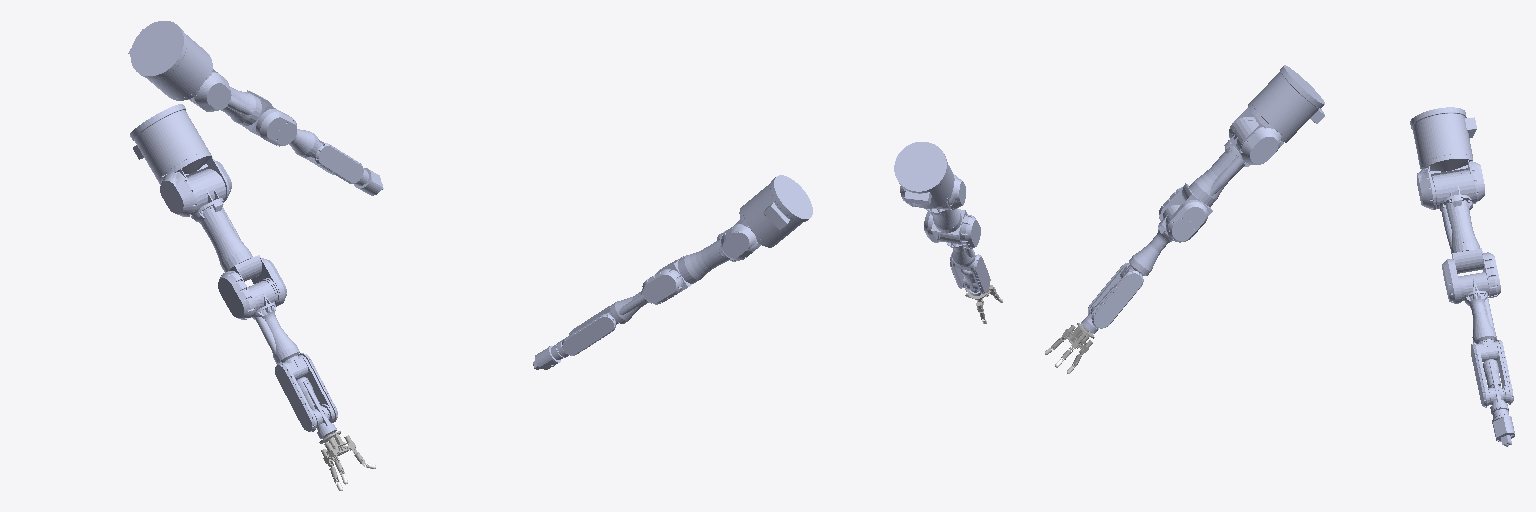
--- What the picture shows (computed from the rendered views, not written in the file) ---
3 views of the same robot in one strip: view 1: azimuth 30°, elevation 25°; view 2: azimuth 150°, elevation 25°; view 3: azimuth 270°, elevation 25° (orthographic).
Robot: dual_arm_pa10 — 32 links, 31 joints (23 revolute, 2 prismatic, 6 fixed); root link world; default pose: joints at zero except 1 at the middle of their limits (right_arm_finger3_joint1 = -1.61).
Visible links, largest first — view 1: left_arm_link1, right_arm_link1, right_arm_link3, right_arm_link6, right_arm_link4, right_arm_link2, right_arm_link5, left_arm_link4, left_arm_link6, left_arm_link2, left_arm_link3, right_arm_link7 (+1 smaller); view 2: left_arm_link1, right_arm_link1, left_arm_link6, left_arm_link3, left_arm_link4, left_arm_link2, right_arm_link4, right_arm_link6, right_arm_link3, left_arm_link5, right_arm_link5, right_arm_link2; view 3: right_arm_link1, left_arm_link1, left_arm_link3, right_arm_link3, left_arm_link2, right_arm_link6, left_arm_link4, right_arm_link4, left_arm_link5, right_arm_link2, left_arm_link6, right_arm_link5 (+2 smaller).
Boxes of the visible links, x1,y1,x2,y2 form: left_arm_link1: (128,21,209,98); right_arm_link1: (130,104,208,179); right_arm_link3: (187,169,252,271); right_arm_link6: (275,353,337,431); right_arm_link4: (218,255,286,319); right_arm_link2: (158,151,231,216); right_arm_link5: (248,278,299,363); left_arm_link4: (243,90,296,146); left_arm_link6: (305,139,363,183); left_arm_link2: (169,53,231,111); left_arm_link3: (188,87,261,125); right_arm_link7: (296,377,336,438); left_arm_link1: (743,175,812,244); right_arm_link1: (894,142,953,206); left_arm_link6: (562,306,618,355); left_arm_link3: (678,221,738,283); left_arm_link4: (642,256,691,304); left_arm_link2: (721,205,776,260); right_arm_link4: (924,209,980,248); right_arm_link6: (950,252,990,293); right_arm_link3: (915,203,961,232); left_arm_link5: (611,269,663,323); right_arm_link5: (937,232,975,266); right_arm_link2: (900,174,965,209); right_arm_link1: (1251,65,1324,138); left_arm_link1: (1410,107,1476,168); left_arm_link3: (1431,170,1479,253); right_arm_link3: (1189,117,1258,206); left_arm_link2: (1417,154,1484,209); right_arm_link6: (1088,263,1143,328); left_arm_link4: (1442,248,1500,303); right_arm_link4: (1159,183,1212,242); left_arm_link5: (1458,272,1496,343); right_arm_link2: (1229,102,1289,164); left_arm_link6: (1471,339,1513,407); right_arm_link5: (1129,205,1179,275).
Size in the robot's own frame: 1.56 by 1.92 by 1.27 metres.
Meshes: 28 distinct files referenced, 27 mesh visuals loaded (27 binary STL); not drawn: 1 (reference not matched to a file when rendering).

The robot description file, URDF, robot "dual_arm_pa10":
<robot
  name="dual_arm_pa10">
	
<!-- Base_link dual arm PA10 -->
	
  <link
    name="base_link">
    <inertial>
      <origin
        xyz="-0.00480993508794382 -1.88509420682234 0.791724905525158"
        rpy="0 0 0" />
      <mass
        value="97.6926992627204" />
      <inertia
        ixx="50.0942158701692"
        ixy="3.17724917847428"
        ixz="9.04164732112971"
        iyy="46.4664597116147"
        iyz="-5.27815108209278"
        izz="19.8026464841161" />
    </inertial>
    <visual>
      <origin
        xyz="0 0 0"
        rpy="0 0 0" />
      <geometry>
        <mesh
          filename="package://dual_arm_pa10_description/meshes/base_link.STL" />
      </geometry>
      <material
        name="">
        <color
          rgba="0.752941176470588 0.752941176470588 0.752941176470588 1" />
      </material>
    </visual>
    <collision>
      <origin
        xyz="0 0 0"
        rpy="0 0 0" />
      <geometry>
        <mesh
          filename="package://dual_arm_pa10_description/meshes/base_link_coll.STL" />
      </geometry>
    </collision>
  </link>
  
  
<!--  Link PA10 arm left  -->
  
  <link
    name="left_arm_link1">
	   
    <inertial>
      <origin
        xyz="-0.0990893449499566 -0.0028675568513179 -5.14186471178846E-11"
        rpy="0 0 0" />
      <mass
        value="7.94934697459327" />
      <inertia
        ixx="0.0504677521814026"
        ixy="-0.000891049131651244"
        ixz="1.27920043481444E-10"
        iyy="0.0510642767596363"
        iyz="4.75166069685562E-11"
        izz="0.0536200422642458" />
    </inertial>
    <visual>
      <origin
        xyz="0 0 0"
        rpy="0 0 0" />
      <geometry>
        <mesh
          filename="package://dual_arm_pa10_description/meshes/left_arm_link1.STL" />
      </geometry>
      <material
        name="">
        <color
          rgba="0.796078431372549 0.823529411764706 0.937254901960784 1" />
      </material>
    </visual>
    <collision>
      <origin
        xyz="0 0 0"
        rpy="0 0 0" />
      <geometry>
        <mesh
          filename="package://dual_arm_pa10_description/meshes/left_arm_link1.STL" />
      </geometry>
    </collision>
  </link>
  
  <link
    name="left_arm_link2">
	   
    <inertial>
      <origin
        xyz="-0.264300715549731 -7.15055906728157E-05 -7.03775243744431E-05"
        rpy="0 0 0" />
      <mass
        value="2.73095495934978" />
      <inertia
        ixx="0.0244689774772581"
        ixy="-7.42118824132229E-06"
        ixz="1.70322169879824E-06"
        iyy="0.0213953227685144"
        iyz="-0.00717334028268169"
        izz="0.0167528907534615" />
    </inertial>
    <visual>
      <origin
        xyz="0 0 0"
        rpy="0 0 0" />
      <geometry>
        <mesh
          filename="package://dual_arm_pa10_description/meshes/left_arm_link2.STL" />
      </geometry>
      <material
        name="">
        <color
          rgba="0.796078431372549 0.823529411764706 0.937254901960784 1" />
      </material>
    </visual>
    <collision>
      <origin
        xyz="0 0 0"
        rpy="0 0 0" />
      <geometry>
        <mesh
          filename="package://dual_arm_pa10_description/meshes/left_arm_link2.STL" />
      </geometry>
    </collision>
  </link>
  
  <link
    name="left_arm_link3">
	   
    <inertial>
      <origin
        xyz="-0.0437019902816687 -0.0638088021219101 0.069271467874256"
        rpy="0 0 0" />
      <mass
        value="4.68020337607247" />
      <inertia
        ixx="0.0640552347544569"
        ixy="-1.05763905615831E-06"
        ixz="1.24457536945441E-06"
        iyy="0.0411099869751615"
        iyz="-0.0273775479092558"
        izz="0.0366007171200103" />
    </inertial>
    <visual>
      <origin
        xyz="0 0 0"
        rpy="0 0 0" />
      <geometry>
        <mesh
          filename="package://dual_arm_pa10_description/meshes/left_arm_link3.STL" />
      </geometry>
      <material
        name="">
        <color
          rgba="0.796078431372549 0.823529411764706 0.937254901960784 1" />
      </material>
    </visual>
    <collision>
      <origin
        xyz="0 0 0"
        rpy="0 0 0" />
      <geometry>
        <mesh
          filename="package://dual_arm_pa10_description/meshes/left_arm_link3.STL" />
      </geometry>
    </collision>
  </link>
  
  <link
    name="left_arm_link4">
	   
    <inertial>
      <origin
        xyz="0.0770136473833799 0.000871346209396995 0.00136007925481962"
        rpy="0 0 0" />
      <mass
        value="2.3540667431701" />
      <inertia
        ixx="0.014502378632076"
        ixy="0.000159299696318827"
        ixz="0.000212338685622314"
        iyy="0.0149084398366611"
        iyz="0.00496672671864164"
        izz="0.0127528937115759" />
    </inertial>
    <visual>
      <origin
        xyz="0 0 0"
        rpy="0 0 0" />
      <geometry>
        <mesh
          filename="package://dual_arm_pa10_description/meshes/left_arm_link4.STL" />
      </geometry>
      <material
        name="">
        <color
          rgba="0.796078431372549 0.823529411764706 0.937254901960784 1" />
      </material>
    </visual>
    <collision>
      <origin
        xyz="0 0 0"
        rpy="0 0 0" />
      <geometry>
        <mesh
          filename="package://dual_arm_pa10_description/meshes/left_arm_link4.STL" />
      </geometry>
    </collision>
  </link>
  
  <link
    name="left_arm_link5">
	   
    <inertial>
      <origin
        xyz="0.0557957834519112 -0.0379144188373129 -0.0758364174887833"
        rpy="0 0 0" />
      <mass
        value="2.05851456703555" />
      <inertia
        ixx="0.0201272248938986"
        ixy="0.000271269049442124"
        ixz="0.000544889679894761"
        iyy="0.0173122643398697"
        iyz="0.00719444295915488"
        izz="0.00652277468352631" />
    </inertial>
    <visual>
      <origin
        xyz="0 0 0"
        rpy="0 0 0" />
      <geometry>
        <mesh
          filename="package://dual_arm_pa10_description/meshes/left_arm_link5.STL" />
      </geometry>
      <material
        name="">
        <color
          rgba="0.796078431372549 0.823529411764706 0.937254901960784 1" />
      </material>
    </visual>
    <collision>
      <origin
        xyz="0 0 0"
        rpy="0 0 0" />
      <geometry>
        <mesh
          filename="package://dual_arm_pa10_description/meshes/left_arm_link5.STL" />
      </geometry>
    </collision>
  </link>
  
  <link
    name="left_arm_link6">
    <inertial>
      <origin
        xyz="-0.11479546488584 0.000402885351959092 0.000572717350250995"
        rpy="0 0 0" />
      <mass
        value="1.37119768187811" />
      <inertia
        ixx="0.00333020305933528"
        ixy="-5.22488915099865E-05"
        ixz="-0.000105018147331423"
        iyy="0.01134044265071"
        iyz="0.000843030204793276"
        izz="0.0100295283885227" />
    </inertial>
    <visual>
      <origin
        xyz="0 0 0"
        rpy="0 0 0" />
      <geometry>
        <mesh
          filename="package://dual_arm_pa10_description/meshes/left_arm_link6.STL" />
      </geometry>
      <material
        name="">
        <color
          rgba="0.796078431372549 0.823529411764706 0.937254901960784 1" />
      </material>
    </visual>
    <collision>
      <origin
        xyz="0 0 0"
        rpy="0 0 0" />
      <geometry>
        <mesh
          filename="package://dual_arm_pa10_description/meshes/left_arm_link6.STL" />
      </geometry>
    </collision>
  </link>
  
   <link
    name="left_arm_link7">
    <inertial>
      <origin
        xyz="-0.00535247874737266 -0.00359545980310949 -0.0310805568908772"
        rpy="0 0 0" />
      <mass
        value="0.749476039952976" />
      <inertia
        ixx="0.00379347793099343"
        ixy="-3.60666870763432E-06"
        ixz="-2.87731741528884E-05"
        iyy="0.00372105352394753"
        iyz="0.000471316831514314"
        izz="0.000480390337421146" />
    </inertial>
    <visual>
      <origin
        xyz="0 0 0"
        rpy="0 0 0" />
      <geometry>
        <mesh
          filename="package://dual_arm_pa10_description/meshes/left_arm_link7.STL" />
      </geometry>
      <material
        name="">
        <color
          rgba="0.796078431372549 0.823529411764706 0.937254901960784 1" />
      </material>
    </visual>
    <collision>
      <origin
        xyz="0 0 0"
        rpy="0 0 0" />
      <geometry>
        <mesh
          filename="package://dual_arm_pa10_description/meshes/left_arm_link7.STL" />
      </geometry>
    </collision>
  </link>
  
  
  <link name ="left_arm_link8"/>
  
  <link name = "gripper"/>
  
  <link 
    name="gripper2"> 
    <inertial> 
      <origin 
        xyz="0 7.27408835842214E-05 -2.77311286391718E-05" 
        rpy="0 0 0" /> 
      <mass 
        value="0.318111544829444" /> 
      <inertia 
        ixx="0.000238894475405689" 
        ixy="-9.95010231447356E-08" 
        ixz="3.79329413750036E-08" 
        iyy="0.000276504500502102" 
        iyz="-3.00174602631607E-07" 
        izz="0.000227584548635218" /> 
    </inertial> 
    <visual> 
      <origin 
        xyz="0 0 0" 
        rpy="0 0 0" /> 
      <geometry> 
        <mesh 
          filename="package://dual_arm_pa10_description/meshes/gripper_f.STL" /> 
      </geometry> 
      <material 
        name=""> 
        <color 
          rgba="0.796078431372549 0.823529411764706 0.937254901960784 1" /> 
      </material> 
    </visual> 
    <collision> 
      <origin 
        xyz="0 0 0" 
        rpy="0 0 0" /> 
      <geometry> 
        <mesh 
          filename="package://dual_arm_pa10_description/meshes/gripper_f.STL" /> 
      </geometry> 
    </collision> 
  </link>
  
  
<link
    name="gripper_left_finger_left">
	
   
    <inertial>
      <origin
        xyz="-0.00749999999999984 0.0191263593375395 -0.000239195420437932"
        rpy="0 0 0" />
      <mass
        value="0.0168898172009748" />
      <inertia
        ixx="3.30140945222578E-06"
        ixy="-1.45583787809333E-21"
        ixz="6.08804930839028E-22"
        iyy="1.52846665341063E-06"
        iyz="9.47618109740749E-21"
        izz="2.38014886911172E-06" />
    </inertial>
    <visual>
      <origin
        xyz="0 0 0"
        rpy="0 0 0" />
      <geometry>
        <mesh
          filename="package://dual_arm_pa10_description/meshes/gripper_left_finger_left.STL" />
      </geometry>
      <material
        name="">
        <color
          rgba="0.792156862745098 0.819607843137255 0.933333333333333 1" />
      </material>
    </visual>
    <collision>
      <origin
        xyz="0 0 0"
        rpy="0 0 0" />
      <geometry>
        <mesh
          filename="package://dual_arm_pa10_description/meshes/gripper_left_finger_left.STL" />
      </geometry>
    </collision>
  </link>
  
  
  
  <link
    name="gripper_left_finger_right">
	  
   
    <inertial>
      <origin
        xyz="0.00750000000000006 0.0191263593375388 -0.000239195420437488"
        rpy="0 0 0" />
      <mass
        value="0.0168898172009748" />
      <inertia
        ixx="3.30140945222578E-06"
        ixy="-1.70730078430945E-21"
        ixz="1.21760986167806E-21"
        iyy="1.52846665341063E-06"
        iyz="9.68793933422106E-21"
        izz="2.38014886911172E-06" />
    </inertial>
    <visual>
      <origin
        xyz="0 0 0"
        rpy="0 0 0" />
      <geometry>
        <mesh
          filename="package://dual_arm_pa10_description/meshes/gripper_left_finger_right.STL" />
      </geometry>
      <material
        name="">
        <color
          rgba="0.792156862745098 0.819607843137255 0.933333333333333 1" />
      </material>
    </visual>
    <collision>
      <origin
        xyz="0 0 0"
        rpy="0 0 0" />
      <geometry>
        <mesh
          filename="package://dual_arm_pa10_description/meshes/gripper_left_finger_right.STL" />
      </geometry>
    </collision>
  </link>
  
<!--  joint left arm pa10  -->
  
  <joint
    name="left_arm_joint1"
    type="fixed">
    <origin
      xyz="0.507621418725904 -1.82100573563922 1.62389631575534"
      rpy="0 -0.785398163397443 -2.88335101905768" />
    <parent
      link="base_link" />
    <child
      link="left_arm_link1" />
    <axis
      xyz="0 0 0" />
  </joint>
  
  <joint
    name="left_arm_joint2"
    type="revolute">
    <origin
      xyz="0 0 0"
      rpy="0.81 -2.77555756156289E-17 -6.93889390390723E-17" />
    <parent
      link="left_arm_link1" />
    <child
      link="left_arm_link2" />
    <axis
      xyz="1 0 0" />
            <limit
      upper="3.08823"
      lower="-3.08823" 
      effort="10000"
      velocity="10" />
  </joint>
   
  <joint
    name="left_arm_joint3"
    type="revolute">
    <origin
      xyz="-0.315500000000002 -0.0265228088786378 0.0363530000028649"
      rpy="0.679504721422882 -0.940482442690304 -1.5707963267949" />
    <parent
      link="left_arm_link2" />
    <child
      link="left_arm_link3" />
    <axis
      xyz="-1 0 0" />
            <limit
      upper="1.58725" 
      lower="-1.58725" 
      effort="10000"
      velocity="10" />
  </joint>
  
  <joint
    name="left_arm_joint4"
    type="revolute">
    <origin
      xyz="-0.0420000000000007 -0.213066339698667 0.231329852873212"
      rpy="-0.86 -0.826472415536946 -1.5707963267949" />
    <parent
      link="left_arm_link3" />
    <child
      link="left_arm_link4" />
    <axis
      xyz="-1 0 0" />
            <limit
      upper="3.03587" 
      lower="-3.03587"
      effort="10000"
      velocity="10" />
  </joint>
  
  <joint
    name="left_arm_joint5"
    type="revolute">
    <origin
      xyz="0.136002290415427 0.035150512356696 0.0435940570071716"
      rpy="1.99 0.89253909633178 -1.57079632679489" />
    <parent
      link="left_arm_link4" />
    <child
      link="left_arm_link5" />
    <axis
      xyz="-1 0 0" />
        <limit
      upper="2.3901" 
     lower="-2.3901" 
      effort="10000"
      velocity="10" />
  </joint>
  
  <joint
    name="left_arm_joint6"
    type="revolute">
    <origin
      xyz="0.0539997253029849 -0.11697622382484 -0.233877997382656"
      rpy="-1.00442971146016 -1.10702148743825 1.5707963267949" />
    <parent
      link="left_arm_link5" />
    <child
      link="left_arm_link6" />
    <axis
      xyz="-1 0 0" />
            <limit
      upper="4.44059"
      lower="-4.44059" 
      effort="10000"
      velocity="10" />
  </joint>
  
  <joint
    name="left_arm_joint7"
    type="revolute">
    <origin
      xyz="-0.238499999999999 0.00191374141050482 0.00364846570489141"
      rpy="-1.45 -1.11583611356585 1.57079632679488" />
    <parent
      link="left_arm_link6" />
    <child
      link="left_arm_link7" />
    <axis
      xyz="-1 0 0" />
            <limit
      upper="2.5979"
      lower="-2.5979" 
      effort="10000"
      velocity="10" />
  </joint>

  <joint
    name="left_arm_joint8"
    type="revolute">
    <origin
      xyz="-0.00411828717799878 0.0267506844360853 0.186087179790034"
      rpy="1.46105289658605 0.0915142366651312 0.692402659639599" />
    <parent
      link="left_arm_link7" />
    <child
      link="left_arm_link8" />
    <axis
      xyz="0 1 0" />
    <limit
      upper="3.14"
      lower="-3.14" 
      effort="10000"
      velocity="10" />
  </joint>
  
    <joint
    name="left_arm_joint9"
    type="fixed">
    <origin
      xyz="0 0 0"
      rpy="0 0 0" />
    <parent
      link="left_arm_link8" />
    <child
      link="gripper2" />
  </joint>

  <joint
    name="gripper_left_joint_left"
    type="prismatic">
    <origin
      xyz="0 0 0"
      rpy="1.11022302462516E-16 2.77555756156289E-17 0" />
    <parent
      link="gripper2" />
    <child
      link="gripper_left_finger_left" />
    <axis
      xyz="-1 0 0" />
     <limit
      effort="100"
      velocity="0"
      upper="0.015"
      lower="-0.015" />
  </joint>
  
  <joint
    name="gripper_left_joint_right"
    type="prismatic">
    <origin
      xyz="0 0 0"
      rpy="1.11022302462516E-16 2.77555756156289E-17 0" />
    <parent
      link="gripper2" />
    <child
      link="gripper_left_finger_right" />
    <axis
      xyz="-1 0 0" />
     <limit
      effort="100"
      velocity="0"
      upper="0.015"
      lower="-0.015" />
  </joint>
  
  <joint name = "fixed_gripper" type = "fixed">
	<origin 
		xyz ="0 0 0"
		rpy="0 0 1.56"/>
	  <parent 
		  link = "gripper2"/>
	  <child 
		  link = "gripper"/>
  </joint>
  
  
  
<!--  Right arm links PA10  -->
  
  
  <link
    name="right_arm_link1">
	  
   
    <inertial>
      <origin
        xyz="-0.0990893449499568 -0.00286755685131812 -5.14186471178846E-11"
        rpy="0 0 0" />
      <mass
        value="7.94934697459327" />
      <inertia
        ixx="0.0504677521814026"
        ixy="-0.000891049131651264"
        ixz="1.27920058226594E-10"
        iyy="0.0510642767596364"
        iyz="4.75166867658361E-11"
        izz="0.0536200422642459" />
    </inertial>
    <visual>
      <origin
        xyz="0 0 0"
        rpy="0 0 0" />
      <geometry>
        <mesh
          filename="package://dual_arm_pa10_description/meshes/right_arm_link1.STL" />
      </geometry>
      <material
        name="">
        <color
          rgba="0.796078431372549 0.823529411764706 0.937254901960784 1" />
      </material>
    </visual>
    <collision>
      <origin
        xyz="0 0 0"
        rpy="0 0 0" />
      <geometry>
        <mesh
          filename="package://dual_arm_pa10_description/meshes/right_arm_link1.STL" />
      </geometry>
    </collision>
  </link>
  
  
  <link
    name="right_arm_link2">
	  
   
    <inertial>
      <origin
        xyz="-0.26430078576359 5.5395456808327E-06 -0.000100120550968308"
        rpy="0 0 0" />
      <mass
        value="2.73096064577531" />
      <inertia
        ixx="0.0244690084324752"
        ixy="-6.16591837397824E-06"
        ixz="-4.45204426263203E-06"
        iyy="0.0116656890506434"
        iyz="-0.00139997461375321"
        izz="0.0264825978692218" />
    </inertial>
    <visual>
      <origin
        xyz="0 0 0"
        rpy="0 0 0" />
      <geometry>
        <mesh
          filename="package://dual_arm_pa10_description/meshes/right_arm_link2.STL" />
      </geometry>
      <material
        name="">
        <color
          rgba="0.796078431372549 0.823529411764706 0.937254901960784 1" />
      </material>
    </visual>
    <collision>
      <origin
        xyz="0 0 0"
        rpy="0 0 0" />
      <geometry>
        <mesh
          filename="package://dual_arm_pa10_description/meshes/right_arm_link2.STL" />
      </geometry>
    </collision>
  </link>
  

  
  <link
    name="right_arm_link3">
	  
   
    <inertial>
      <origin
        xyz="-0.043702005578881 -0.090401693031238 0.0264126444841203"
        rpy="0 0 0" />
      <mass
        value="4.68020240384894" />
      <inertia
        ixx="0.0640552172482369"
        ixy="-1.53619565706423E-06"
        ixz="5.24694524367715E-07"
        iyy="0.0157079072556859"
        iyz="-0.0147922025516611"
        izz="0.0620027657982079" />
    </inertial>
    <visual>
      <origin
        xyz="0 0 0"
        rpy="0 0 0" />
      <geometry>
        <mesh
          filename="package://dual_arm_pa10_description/meshes/right_arm_link3.STL" />
      </geometry>
      <material
        name="">
        <color
          rgba="0.796078431372549 0.823529411764706 0.937254901960784 1" />
      </material>
    </visual>
    <collision>
      <origin
        xyz="0 0 0"
        rpy="0 0 0" />
      <geometry>
        <mesh
          filename="package://dual_arm_pa10_description/meshes/right_arm_link3.STL" />
      </geometry>
    </collision>
  </link>
  

  
  <link
    name="right_arm_link4">
	  
   
    <inertial>
      <origin
        xyz="-0.0770138451003759 -0.00161193273810367 -0.000125751938630847"
        rpy="0 0 0" />
      <mass
        value="2.35401507523885" />
      <inertia
        ixx="0.0145020232118894"
        ixy="0.000262355464902327"
        ixz="4.01548601820139E-05"
        iyy="0.00909875065584951"
        iyz="0.00185468162491554"
        izz="0.0185621935328941" />

    </inertial>
    <visual>
      <origin
        xyz="0 0 0"
        rpy="0 0 0" />
      <geometry>
        <mesh
          filename="package://dual_arm_pa10_description/meshes/right_arm_link4.STL" />
      </geometry>
      <material
        name="">
        <color
          rgba="0.796078431372549 0.823529411764706 0.937254901960784 1" />
      </material>
    </visual>
    <collision>
      <origin
        xyz="0 0 0"
        rpy="0 0 0" />
      <geometry>
        <mesh
          filename="package://dual_arm_pa10_description/meshes/right_arm_link4.STL" />
      </geometry>
    </collision>
  </link>
  
      
  <link
    name="right_arm_link5">
	  
   
    <inertial>
      <origin
        xyz="-0.0487042069737162 -0.0766373323514082 0.0362682906169793"
        rpy="0 0 0" />
      <mass
        value="2.05851465800913" />
      <inertia
        ixx="0.0201272258099083"
        ixy="0.000550620033272202"
        ixz="-0.000259442925847235"
        iyy="0.00621722042355472"
        iyz="-0.00695484682515333"
        izz="0.0176178173930546" />
    </inertial>
    <visual>
      <origin
        xyz="0 0 0"
        rpy="0 0 0" />
      <geometry>
        <mesh
          filename="package://dual_arm_pa10_description/meshes/right_arm_link5.STL" />
      </geometry>
      <material
        name="">
        <color
          rgba="0.796078431372549 0.823529411764706 0.937254901960784 1" />
      </material>
    </visual>
    <collision>
      <origin
        xyz="0 0 0"
        rpy="0 0 0" />
      <geometry>
        <mesh
          filename="package://dual_arm_pa10_description/meshes/right_arm_link5.STL" />
      </geometry>
    </collision>
  </link>
  <link
    name="right_arm_link6">
	  
   
    <inertial>
      <origin
        xyz="-0.123795466877962 -0.000332575422462789 0.000616238682792758"
        rpy="0 0 0" />
      <mass
        value="1.37119764560828" />
      <inertia
        ixx="0.00333020297641547"
        ixy="7.06016508965639E-05"
        ixz="-9.36703489410525E-05"
        iyy="0.0109653192543875"
        iyz="-0.00103040611090879"
        izz="0.0104046512455929" />
    </inertial>
    <visual>
      <origin
        xyz="0 0 0"
        rpy="0 0 0" />
      <geometry>
        <mesh
          filename="package://dual_arm_pa10_description/meshes/right_arm_link6.STL" />
      </geometry>
      <material
        name="">
        <color
          rgba="0.796078431372549 0.823529411764706 0.937254901960784 1" />
      </material>
    </visual>
    <collision>
      <origin
        xyz="0 0 0"
        rpy="0 0 0" />
      <geometry>
        <mesh
          filename="package://dual_arm_pa10_description/meshes/right_arm_link6.STL" />
      </geometry>
    </collision>
  </link>
  
   <link
    name="right_arm_link7">
	  
   
    <inertial>
      <origin
        xyz="-0.014234191618073 0.0146115535383847 -0.027666424709035"
        rpy="0 0 0" />
      <mass
        value="0.749476071274831" />
      <inertia
        ixx="0.00379347796542419"
        ixy="1.32974134677653E-05"
        ixz="-2.57698088367669E-05"
        iyy="0.00312427872471845"
        iyz="-0.0013416204873178"
        izz="0.00107716514804889" />     
      
    </inertial>
    <visual>
      <origin
        xyz="0 0 0"
        rpy="0 0 0" />
      <geometry>
        <mesh
          filename="package://dual_arm_pa10_description/meshes/right_arm_link7.STL" />
      </geometry>
      <material
        name="">
        <color
          rgba="0.796078431372549 0.823529411764706 0.937254901960784 1" />
      </material>
    </visual>
    <collision>
      <origin
        xyz="0 0 0"
        rpy="0 0 0" />
      <geometry>
        <mesh
          filename="package://dual_arm_pa10_description/meshes/right_arm_link7.STL" />
      </geometry>
    </collision>
  </link>
  
   <link name="right_arm_link8"/>
  
  <link
    name="right_arm_base_hand">
	  
   
    <inertial>
      <origin
        xyz="0.0418091045929514 0.00191798166981871 0.00433739198776051"
        rpy="0 0 0" />
      <mass
        value="0.430073369142988" />
      <inertia
        ixx="0.000343341303406941"
        ixy="2.53348472786522E-05"
        ixz="5.81308793866753E-05"
        iyy="0.0006027164783059"
        iyz="1.96121238200981E-05"
        izz="0.000569612147015965" />
    </inertial>
    <visual>
      <origin
        xyz="0 0 0"
        rpy="0 0 0" />
      <geometry>
        <mesh
          filename="package://dual_arm_pa10_description/meshes/right_arm_base_hand.STL" />
      </geometry>
      <material
        name="">
        <color
          rgba="0.752941176470588 0.752941176470588 0.752941176470588 1" />
      </material>
    </visual>
    <collision>
      <origin
        xyz="0 0 0"
        rpy="0 0 0" />
      <geometry>
        <mesh
          filename="package://dual_arm_pa10_description/meshes/right_arm_base_hand.STL" />
      </geometry>
    </collision>
  </link>
  
<!--  Right arm joint PA10  -->
  
  
  <joint
    name="right_arm_joint1"
    type="fixed">
    <origin
      xyz="0.191984660943271 -2.36324029739934 1.62389631575577"
      rpy="1.5707963267949 -0.785398163397444 1.82903796132701" />
    <parent
      link="base_link" />
    <child
      link="right_arm_link1" />
    <axis
      xyz="0 0 0" />
  </joint>
  
  <joint
    name="right_arm_joint2"
    type="revolute">
    <origin
      xyz="0 0 0"
      rpy="1.70 0 -5.55111512312578E-17" />
    <parent
      link="right_arm_link1" />
    <child
      link="right_arm_link2" />
    <axis
      xyz="-1 0 0" />
            <limit
      upper="3.08823"
      lower="-3.08823" 
      effort="10000"
      velocity="10" />
  </joint>
  
  <joint
    name="right_arm_joint3"
    type="revolute">
    <origin
      xyz="-0.315500000000001 -0.0448097183696872 0.00413390126275653"
      rpy="0.260 -0.0919909520685004 -1.5707963267949" />
    <parent
      link="right_arm_link2" />
    <child
      link="right_arm_link3" />
    <axis
      xyz="-1 0 0" />
            <limit
      upper="1.58725" 
      lower="-1.58725" 
      effort="10000"
      velocity="10" />
  </joint>
  <joint
    name="right_arm_joint4"
    type="revolute">
    <origin
      xyz="-0.0419999999999989 -0.301875598140907 0.0882150168055255"
      rpy="-0.3 0.284306822214236 1.5707963267949" />
    <parent
      link="right_arm_link3" />
    <child
      link="right_arm_link4" />
    <axis
      xyz="-1 0 0" />
            <limit
      upper="3.03587" 
      lower="-3.03587"
      effort="10000"
      velocity="10" />
  </joint>
  <joint
    name="right_arm_joint5"
    type="revolute">
    <origin
      xyz="-0.136002290415432 0.0476625282866143 0.00897405831329179"
      rpy="-2.64511707232048 -0.186476411880821 1.5707963267949" />
    <parent
      link="right_arm_link4" />
    <child
      link="right_arm_link5" />
    <axis
      xyz="-1 0 0" />
        <limit
      upper="2.3901" 
     lower="-2.3901" 
      effort="10000"
      velocity="10" />
  </joint>
  
  <joint
    name="right_arm_joint6"
    type="revolute">
    <origin
      xyz="-0.0505 -0.228214601249627 0.108048353881556"
      rpy="0.85944656681236 0.442183377058992 1.5707963267949" />
    <parent
      link="right_arm_link5" />
    <child
      link="right_arm_link6" />
    <axis
      xyz="-1 0 0" />
            <limit
      upper="4.44059"
      lower="-4.44059" 
      effort="10000"
      velocity="10" />
  </joint>
 
  <joint
    name="right_arm_joint7"
    type="revolute">
    <origin
      xyz="-0.247500000000001 -0.0078023590589269 0.0103989556550788"
      rpy="1.077475833995264 -0.918211868949171 -1.57079632679489" />
    <parent
      link="right_arm_link6" />
    <child
      link="right_arm_link7" />
    <axis
      xyz="-1 0 0" />
            <limit
      upper="2.87979"
      lower="-2.87979" 
      effort="10000"
      velocity="10" />
  </joint>
  
  
  
 
  <joint
    name="right_arm_joint8"
    type="revolute">
    <origin
      xyz="-0.0130000046830103 -0.0349511567610573 0.0708479408778211"
      rpy="0 -1.11250174568969 -1.5707963267949" />
    <parent
      link="right_arm_link7" />
    <child
      link="right_arm_link8" />
    <axis
      xyz="-1 0 0" />
        <limit
      upper="3.14"
      lower="-3.14" 
      effort="10000"
      velocity="10" />
    </joint>
  
  
  <joint
    name="right_hand_joint9"
    type="fixed">
    <origin
      xyz="0 0 0"
      rpy="0 0 0" />
    <parent
      link="right_arm_link8" />
    <child
      link="right_arm_base_hand" />
  </joint>
  
  
  
  
<!--  Hand  -->
  
  
  <link
    name="right_arm_finger1_link1">
	  
   
    <inertial>
      <origin
        xyz="0.0081351877408502 0.0296330982820245 -0.0105111297374263"
        rpy="0 0 0" />
      <mass
        value="0.0228985291732181" />
      <inertia
        ixx="1.69722463706739E-06"
        ixy="9.98223062670238E-08"
        ixz="-3.54076872241268E-08"
        iyy="6.48801634142352E-06"
        iyz="-3.52797092036644E-08"
        izz="6.57440348923908E-06" />
    </inertial>
    <visual>
      <origin
        xyz="0 0 0"
        rpy="0 0 0" />
      <geometry>
        <mesh
          filename="package://dual_arm_pa10_description/meshes/right_arm_finger1_link1.STL" />
      </geometry>
      <material
        name="">
        <color
          rgba="0.752941176470588 0.752941176470588 0.752941176470588 1" />
      </material>
    </visual>
    <collision>
      <origin
        xyz="0 0 0"
        rpy="0 0 0" />
      <geometry>
        <mesh
          filename="package://dual_arm_pa10_description/meshes/right_arm_finger1_link1.STL" />
      </geometry>
    </collision>
  </link>
  <joint
    name="right_arm_finger1_joint1"
    type="revolute">
    <origin
      xyz="0.071700010850916 0.0263382298732273 0.00341401325625978"
      rpy="3.14159265358979 0 3.14159265358979" />
    <parent
      link="right_arm_base_hand" />
    <child
      link="right_arm_finger1_link1" />
    <axis
      xyz="-1 0 0" />
    <limit upper="0.85" lower="-2.29" velocity="1.37" effort="7"/>
  </joint>
  <link
    name="right_arm_finger1_link2">
	  
   
    <inertial>
      <origin
        xyz="0.00296901019103424 -0.00867393324607268 -0.028991742539537"
        rpy="0 0 0" />
      <mass
        value="0.0140696992771142" />
      <inertia
        ixx="3.39016869801563E-06"
        ixy="-4.14466658774013E-09"
        ixz="-4.70091214696795E-09"
        iyy="3.18279822437385E-06"
        iyz="7.50504842731485E-07"
        izz="9.16641948850699E-07" />
    </inertial>
    <visual>
      <origin
        xyz="0 0 0"
        rpy="0 0 0" />
      <geometry>
        <mesh
          filename="package://dual_arm_pa10_description/meshes/right_arm_finger1_link2.STL" />
      </geometry>
      <material
        name="">
        <color
          rgba="0.752941176470588 0.752941176470588 0.752941176470588 1" />
      </material>
    </visual>
    <collision>
      <origin
        xyz="0 0 0"
        rpy="0 0 0" />
      <geometry>
        <mesh
          filename="package://dual_arm_pa10_description/meshes/right_arm_finger1_link2.STL" />
      </geometry>
    </collision>
  </link>
  <joint
    name="right_arm_finger1_joint2"
    type="revolute">
    <origin
      xyz="-0.0250000021643526 0.0311618210269766 -0.00787024408465131"
      rpy="-1.14854300382443 1.22993247879784 -1.57079632679488" />
    <parent
      link="right_arm_finger1_link1" />
    <child
      link="right_arm_finger1_link2" />
    <axis
      xyz="-1 0 0" />
<limit upper="1.56" lower="-1.56" velocity="1.37" effort="7"/>
  </joint>
  <link
    name="right_arm_finger1_link3">
	  
   
    <inertial>
      <origin
        xyz="-0.000909999960181151 0.00173665168836645 0.0239420068539111"
        rpy="0 0 0" />
      <mass
        value="0.00794708006244692" />
      <inertia
        ixx="1.11971181150284E-06"
        ixy="-2.82120326182396E-14"
        ixz="-2.92793178420851E-14"
        iyy="1.11522009455067E-06"
        iyz="6.11531168401545E-08"
        izz="2.76581570667571E-07" />
    </inertial>
    <visual>
      <origin
        xyz="0 0 0"
        rpy="0 0 0" />
      <geometry>
        <mesh
          filename="package://dual_arm_pa10_description/meshes/right_arm_finger1_link3.STL" />
      </geometry>
      <material
        name="">
        <color
          rgba="1 1 1 1" />
      </material>
    </visual>
    <collision>
      <origin
        xyz="0 0 0"
        rpy="0 0 0" />
      <geometry>
        <mesh
          filename="package://dual_arm_pa10_description/meshes/right_arm_finger1_link3.STL" />
      </geometry>
    </collision>
  </link>
  <joint
    name="right_arm_finger1_joint3"
    type="revolute">
    <origin
      xyz="0.00209000000000442 -0.0175910548126128 -0.0586700542149021"
      rpy="2.796792654 3.09752223870419E-14 -3.14159265358978" />
    <parent
      link="right_arm_finger1_link2" />
    <child
      link="right_arm_finger1_link3" />
    <axis
      xyz="-1 0 0" />
        <limit upper="0.89" lower="-2.25" velocity="1.37" effort="7"/>
  </joint>
  <link
    name="right_arm_finger2_link1">
	  
   
    <inertial>
      <origin
        xyz="-0.00263518774085103 -0.00810872271693919 -0.0303784953223321"
        rpy="0 0 0" />
      <mass
        value="0.0228985291732181" />
      <inertia
        ixx="1.69722463706739E-06"
        ixy="2.7315271717921E-08"
        ixz="1.0233314748414E-07"
        iyy="6.57964950524914E-06"
        iyz="2.76396244007523E-08"
        izz="6.48277032541349E-06" />
    </inertial>
    <visual>
      <origin
        xyz="0 0 0"
        rpy="0 0 0" />
      <geometry>
        <mesh
          filename="package://dual_arm_pa10_description/meshes/right_arm_finger2_link1.STL" />
      </geometry>
      <material
        name="">
        <color
          rgba="0.752941176470588 0.752941176470588 0.752941176470588 1" />
      </material>
    </visual>
    <collision>
      <origin
        xyz="0 0 0"
        rpy="0 0 0" />
      <geometry>
        <mesh
          filename="package://dual_arm_pa10_description/meshes/right_arm_finger2_link1.STL" />
      </geometry>
    </collision>
  </link>
  <joint
    name="right_arm_finger2_joint1"
    type="revolute">
    <origin
      xyz="0.0662000108509164 -0.0102127198225164 -0.0245149694738578"
      rpy="0 0 -1.11022302462516E-16" />
    <parent
      link="right_arm_base_hand" />
    <child
      link="right_arm_finger2_link1" />
    <axis
      xyz="-1 0 0" />
        <limit upper="1.44" lower="-1.70" velocity="1.37" effort="7"/>
  </joint>
  <link
    name="right_arm_finger2_link2">
	  
   
    <inertial>
      <origin
        xyz="0.00296900764519803 -0.028884612242787 0.00902428048762349"
        rpy="0 0 0" />
      <mass
        value="0.0140697000964191" />
      <inertia
        ixx="3.39016821344967E-06"
        ixy="-4.65045170225343E-09"
        ixz="4.20119946412091E-09"
        iyy="9.35144491416045E-07"
        iyz="-7.77717705339412E-07"
        izz="3.16429568009057E-06" />
    </inertial>
    <visual>
      <origin
        xyz="0 0 0"
        rpy="0 0 0" />
      <geometry>
        <mesh
          filename="package://dual_arm_pa10_description/meshes/right_arm_finger2_link2.STL" />
      </geometry>
      <material
        name="">
        <color
          rgba="0.752941176470588 0.752941176470588 0.752941176470588 1" />
      </material>
    </visual>
    <collision>
      <origin
        xyz="0 0 0"
        rpy="0 0 0" />
      <geometry>
        <mesh
          filename="package://dual_arm_pa10_description/meshes/right_arm_finger2_link2.STL" />
      </geometry>
    </collision>
  </link>
  <joint
    name="right_arm_finger2_joint2"
    type="revolute">
    <origin
      xyz="0.0305 -0.0111511248338205 -0.0301438618173943"
      rpy="0.547054820123972 0.260841791582996 1.5707963267949" />
    <parent
      link="right_arm_finger2_link1" />
    <child
      link="right_arm_finger2_link2" />
    <axis
      xyz="-1 0 0" />
        <limit upper="1.56" lower="-1.56" velocity="1.37" effort="7"/>
  </joint>
  <link
    name="right_arm_finger2_link3">
	  
   
    <inertial>
      <origin
        xyz="-0.00091000051118395 -0.0116719673911851 0.0209761953926275"
        rpy="0 0 0" />
      <mass
        value="0.00794708120703288" />
      <inertia
        ixx="1.11971189476503E-06"
        ixy="-3.10048813118644E-14"
        ixz="2.88203015889813E-15"
        iyy="9.19285829403765E-07"
        iyz="-3.60093804274701E-07"
        izz="4.72515959059998E-07" />
    </inertial>
    <visual>
      <origin
        xyz="0 0 0"
        rpy="0 0 0" />
      <geometry>
        <mesh
          filename="package://dual_arm_pa10_description/meshes/right_arm_finger2_link3.STL" />
      </geometry>
      <material
        name="">
        <color
          rgba="1 1 1 1" />
      </material>
    </visual>
    <collision>
      <origin
        xyz="0 0 0"
        rpy="0 0 0" />
      <geometry>
        <mesh
          filename="package://dual_arm_pa10_description/meshes/right_arm_finger2_link3.STL" />
      </geometry>
    </collision>
  </link>
  <joint
    name="right_arm_finger2_joint3"
    type="revolute">
    <origin
      xyz="0.00209000000000215 -0.058452793308474 0.0183000449788908"
      rpy="4.701592654 -7.52176099183544E-15 -3.14159265358978" />
    <parent
      link="right_arm_finger2_link2" />
    <child
      link="right_arm_finger2_link3" />
    <axis
      xyz="-1 0 0" />
        <limit upper="1.56" lower="-1.56" velocity="1.37" effort="7"/>
  </joint>
  <link
    name="right_arm_finger3_link1">
	  
   
    <inertial>
      <origin
        xyz="0.00263518774085059 -0.0120912294344 0.0290242404364676"
        rpy="0 0 0" />
      <mass
        value="0.0228985291732181" />
      <inertia
        ixx="1.69722463706739E-06"
        ixy="-4.0730761577233E-08"
        ixz="9.77711726654359E-08"
        iyy="6.57061037434248E-06"
        iyz="-3.94708314850979E-08"
        izz="6.49180945631999E-06" />
    </inertial>
    <visual>
      <origin
        xyz="0 0 0"
        rpy="0 0 0" />
      <geometry>
        <mesh
          filename="package://dual_arm_pa10_description/meshes/right_arm_finger3_link1.STL" />
      </geometry>
      <material
        name="">
        <color
          rgba="0.752941176470588 0.752941176470588 0.752941176470588 1" />
      </material>
    </visual>
    <collision>
      <origin
        xyz="0 0 0"
        rpy="0 0 0" />
      <geometry>
        <mesh
          filename="package://dual_arm_pa10_description/meshes/right_arm_finger3_link1.STL" />
      </geometry>
    </collision>
  </link>
  <joint
    name="right_arm_finger3_joint1"
    type="revolute">
    <origin
      xyz="0.0662000108509164 -0.0161244535207834 0.0211035728601622"
      rpy="3.14159265358979 -1.11022302462516E-16 -3.14159265358979" />
    <parent
      link="right_arm_base_hand" />
    <child
      link="right_arm_finger3_link1" />
    <axis
      xyz="-1 0 0" />
        <limit upper="-0.0351" lower="-3.1751" velocity="1.37" effort="7"/>
  </joint>
  <link
    name="right_arm_finger3_link2">
	  
   
    <inertial>
      <origin
        xyz="0.00296900774984721 -0.0248767132515548 0.0172310076654409"
        rpy="0 0 0" />
      <mass
        value="0.0140697008191643" />
      <inertia
        ixx="3.39016825385727E-06"
        ixy="-3.18516549583018E-09"
        ixz="5.39733058787981E-09"
        iyy="1.57649642010441E-06"
        iyz="-1.27404198559063E-06"
        izz="2.52294385650324E-06" />
    </inertial>
    <visual>
      <origin
        xyz="0 0 0"
        rpy="0 0 0" />
      <geometry>
        <mesh
          filename="package://dual_arm_pa10_description/meshes/right_arm_finger3_link2.STL" />
      </geometry>
      <material
        name="">
        <color
          rgba="0.752941176470588 0.752941176470588 0.752941176470588 1" />
      </material>
    </visual>
    <collision>
      <origin
        xyz="0 0 0"
        rpy="0 0 0" />
      <geometry>
        <mesh
          filename="package://dual_arm_pa10_description/meshes/right_arm_finger3_link2.STL" />
      </geometry>
    </collision>
  </link>
  
  <joint
    name="right_arm_finger3_joint2"
    type="revolute">
    <origin
      xyz="-0.0305000021643527 -0.0150750850213071 0.0283855886546281"
      rpy="-2.40426929457614 -0.394726401099013 1.5707963267949" />
    <parent
      link="right_arm_finger3_link1" />
    <child
      link="right_arm_finger3_link2" />
    <axis
      xyz="-1 0 0" />
        <limit upper="1.56" lower="-1.56" velocity="1.37" effort="7"/>
  </joint>
  
  <link
    name="right_arm_finger3_link3">
    <inertial>
      <origin
        xyz="-0.000909999280165108 -0.0212019082497008 -0.0112567677994688"
        rpy="0 0 0" />
      <mass
        value="0.00794707869949347" />
      <inertia
        ixx="1.11971166848433E-06"
        ixy="9.31667685052039E-14"
        ixz="1.90445839922082E-14"
        iyy="4.58513880294662E-07"
        iyz="3.51021036569733E-07"
        izz="9.33287590666055E-07" />
    </inertial>
    <visual>
      <origin
        xyz="0 0 0"
        rpy="0 0 0" />
      <geometry>
        <mesh
          filename="package://dual_arm_pa10_description/meshes/right_arm_finger3_link3.STL" />
      </geometry>
      <material
        name="">
        <color
          rgba="1 1 1 1" />
      </material>
    </visual>
    <collision>
      <origin
        xyz="0 0 0"
        rpy="0 0 0" />
      <geometry>
        <mesh
          filename="package://dual_arm_pa10_description/meshes/right_arm_finger3_link3.STL" />
      </geometry>
    </collision>
  </link>
  
  <joint
    name="right_arm_finger3_joint3"
    type="revolute">
    <origin
      xyz="0.00209000000000237 -0.0503308320173415 0.0349059854386304"
      rpy="3.14159265358977 -1.36834987785051E-14 -3.14159265358978" />
    <parent
      link="right_arm_finger3_link2" />
    <child
      link="right_arm_finger3_link3" />
    <axis
      xyz="-1 0 0" />
        <limit upper="1.56" lower="-1.56" velocity="1.37" effort="7"/>
  </joint>
  
  
  
  
  
  
  
  
  
  
  
  
  
  
  
  
  
  
  
  
  

<!--Transmission left_arm    -->
  
  <transmission name="transmission_left_arm_joint2">
    <type>transmission_interface/SimpleTransmission</type>
    <joint name="left_arm_joint2">
      <hardwareInterface>EffortJointInterface</hardwareInterface>
    </joint>
    <actuator name="motor_left_arm2">
      <hardwareInterface>EffortJointInterface</hardwareInterface>
      <mechanicalReduction>1</mechanicalReduction>
    </actuator>
  </transmission>
  
  <transmission name="transmission_left_arm_joint3">
    <type>transmission_interface/SimpleTransmission</type>
    <joint name="left_arm_joint3">
      <hardwareInterface>EffortJointInterface</hardwareInterface>
    </joint>
    <actuator name="motor_left_arm3">
      <hardwareInterface>EffortJointInterface</hardwareInterface>
      <mechanicalReduction>1</mechanicalReduction>
    </actuator>
  </transmission>
  
  <transmission name="transmission_left_arm_joint4">
    <type>transmission_interface/SimpleTransmission</type>
    <joint name="left_arm_joint4">
      <hardwareInterface>EffortJointInterface</hardwareInterface>
    </joint>
    <actuator name="motor_left_arm4">
      <hardwareInterface>EffortJointInterface</hardwareInterface>
      <mechanicalReduction>1</mechanicalReduction>
    </actuator>
  </transmission>
  
  <transmission name="transmission_left_arm_joint5">
    <type>transmission_interface/SimpleTransmission</type>
    <joint name="left_arm_joint5">
      <hardwareInterface>EffortJointInterface</hardwareInterface>
    </joint>
    <actuator name="motor_left_arm5">
      <hardwareInterface>EffortJointInterface</hardwareInterface>
      <mechanicalReduction>1</mechanicalReduction>
    </actuator>
  </transmission>
  
  <transmission name="transmission_left_arm_joint6">
    <type>transmission_interface/SimpleTransmission</type>
    <joint name="left_arm_joint6">
      <hardwareInterface>EffortJointInterface</hardwareInterface>
    </joint>
    <actuator name="motor_left_arm6">
      <hardwareInterface>EffortJointInterface</hardwareInterface>
      <mechanicalReduction>1</mechanicalReduction>
    </actuator>
  </transmission>
  
  <transmission name="transmission_left_arm_joint7">
    <type>transmission_interface/SimpleTransmission</type>
    <joint name="left_arm_joint7">
      <hardwareInterface>EffortJointInterface</hardwareInterface>
    </joint>
    <actuator name="motor_left_arm7">
      <hardwareInterface>EffortJointInterface</hardwareInterface>
      <mechanicalReduction>1</mechanicalReduction>
    </actuator>
  </transmission>
  
    <transmission name="transmission_left_arm_joint8">
    <type>transmission_interface/SimpleTransmission</type>
    <joint name="left_arm_joint8">
      <hardwareInterface>EffortJointInterface</hardwareInterface>
    </joint>
    <actuator name="motor_left_arm8">
      <hardwareInterface>EffortJointInterface</hardwareInterface>
      <mechanicalReduction>1</mechanicalReduction>
    </actuator>
  </transmission>
  
    <transmission name="transmission_gripper_left_joint_left">
    <type>transmission_interface/SimpleTransmission</type>
    <joint name="gripper_left_joint_left">
      <hardwareInterface>EffortJointInterface</hardwareInterface>
    </joint>
    <actuator name="motor_left_joint_left">
      <hardwareInterface>EffortJointInterface</hardwareInterface>
      <mechanicalReduction>1</mechanicalReduction>
    </actuator>
  </transmission>
  
<transmission name="transmission_left_joint_right">
    <type>transmission_interface/SimpleTransmission</type>
    <joint name="gripper_left_joint_right">
      <hardwareInterface>EffortJointInterface</hardwareInterface>
    </joint>
    <actuator name="motor_left_joint_right">
      <hardwareInterface>EffortJointInterface</hardwareInterface>
      <mechanicalReduction>1</mechanicalReduction>
    </actuator>
  </transmission>

  
  
<!-- Plugin ROS left_arm   -->
  
  <gazebo>
    <plugin name="gazebo_ros_control_left" filename="libgazebo_ros_control.so">
      <robotNamespace>/dual_arm_pa10/left_arm</robotNamespace>
<!--       <robotSimType>gazebo_ros_control/DefaultRobotHWSim</robotSimType> -->
    </plugin>
</gazebo>


  <!-- contact sensor left_arm gripper -->

  <gazebo reference = "gripper2">
    <sensor name='contact_gripper' type='contact'>
	<plugin name="plugin_contact_gripper" filename="libcontact.so"/>
	<contact>
		<collision>gripper2_collision</collision>
	</contact>
  </sensor>
</gazebo>


<gazebo reference="gripper_left_finger_right">
  <kp>1000000.0</kp>
  <kd>100.0</kd>
  <mu1>100.0</mu1>
  <mu2>100.0</mu2>
  <minDepth>0.001</minDepth>
  
  <sensor name='contact_finger_right' type='contact'>
	<plugin name="plugin_contact_finger_right" filename="libcontact.so"/>
	<contact>
		<collision>gripper_left_finger_right_collision</collision>
	</contact>
  </sensor>
</gazebo>

<gazebo reference="gripper_left_finger_left">
  <kp>1000000.0</kp>
  <kd>100.0</kd>
  <mu1>100.0</mu1>
  <mu2>100.0</mu2>
  <minDepth>0.001</minDepth>
    <sensor name='contact_finger_left' type='contact'>
	<plugin name="plugin_contact_finger_left" filename="libcontact.so"/>
	<contact>
		<collision>gripper_left_finger_left_collision</collision>
	</contact>
  </sensor>
</gazebo>










<!--Transmission right_arm    -->

  <transmission name="transmission_right_arm_joint2">
    <type>transmission_interface/SimpleTransmission</type>
    <joint name="right_arm_joint2">
      <hardwareInterface>EffortJointInterface</hardwareInterface>
    </joint>
    <actuator name="motor_right_arm2">
      <hardwareInterface>EffortJointInterface</hardwareInterface>
      <mechanicalReduction>1</mechanicalReduction>
    </actuator>
  </transmission>
  
  <transmission name="transmission_right_arm_joint3">
    <type>transmission_interface/SimpleTransmission</type>
    <joint name="right_arm_joint3">
      <hardwareInterface>EffortJointInterface</hardwareInterface>
    </joint>
    <actuator name="motor_right_arm3">
      <hardwareInterface>EffortJointInterface</hardwareInterface>
      <mechanicalReduction>1</mechanicalReduction>
    </actuator>
  </transmission>
  
  <transmission name="transmission_right_arm_joint4">
    <type>transmission_interface/SimpleTransmission</type>
    <joint name="right_arm_joint4">
      <hardwareInterface>EffortJointInterface</hardwareInterface>
    </joint>
    <actuator name="motor_right_arm4">
      <hardwareInterface>EffortJointInterface</hardwareInterface>
      <mechanicalReduction>1</mechanicalReduction>
    </actuator>
  </transmission>
  
  <transmission name="transmission_right_arm_joint5">
    <type>transmission_interface/SimpleTransmission</type>
    <joint name="right_arm_joint5">
      <hardwareInterface>EffortJointInterface</hardwareInterface>
    </joint>
    <actuator name="motor_right_arm5">
      <hardwareInterface>EffortJointInterface</hardwareInterface>
      <mechanicalReduction>1</mechanicalReduction>
    </actuator>
  </transmission>
  
  <transmission name="transmission_right_arm_joint6">
    <type>transmission_interface/SimpleTransmission</type>
    <joint name="right_arm_joint6">
      <hardwareInterface>EffortJointInterface</hardwareInterface>
    </joint>
    <actuator name="motor_right_arm6">
      <hardwareInterface>EffortJointInterface</hardwareInterface>
      <mechanicalReduction>1</mechanicalReduction>
    </actuator>
  </transmission>
  
  <transmission name="transmission_right_arm_joint7">
    <type>transmission_interface/SimpleTransmission</type>
    <joint name="right_arm_joint7">
      <hardwareInterface>EffortJointInterface</hardwareInterface>
    </joint>
    <actuator name="motor_right_arm7">
      <hardwareInterface>EffortJointInterface</hardwareInterface>
      <mechanicalReduction>1</mechanicalReduction>
    </actuator>
  </transmission>
  
  
  
  <transmission name="transmission_right_arm_joint8">
    <type>transmission_interface/SimpleTransmission</type>
    <joint name="right_arm_joint8">
      <hardwareInterface>EffortJointInterface</hardwareInterface>
    </joint>
    <actuator name="motor_right_arm_joint8">
      <hardwareInterface>EffortJointInterface</hardwareInterface>
      <mechanicalReduction>1</mechanicalReduction>
    </actuator>
  </transmission>
  
  
    <transmission name="transmission_right_arm_finger1_joint1">
    <type>transmission_interface/SimpleTransmission</type>
    <joint name="right_arm_finger1_joint1">
      <hardwareInterface>EffortJointInterface</hardwareInterface>
    </joint>
    <actuator name="motor_right_arm_finger1_joint1">
      <hardwareInterface>EffortJointInterface</hardwareInterface>
      <mechanicalReduction>1</mechanicalReduction>
    </actuator>
  </transmission>
  
  <transmission name="transmission_right_arm_finger1_joint2">
    <type>transmission_interface/SimpleTransmission</type>
    <joint name="right_arm_finger1_joint2">
      <hardwareInterface>EffortJointInterface</hardwareInterface>
    </joint>
    <actuator name="motor_right_arm_finger1_joint2">
      <hardwareInterface>EffortJointInterface</hardwareInterface>
      <mechanicalReduction>1</mechanicalReduction>
    </actuator>
  </transmission>   
  
  <transmission name="transmission_right_arm_finger1_joint3">
    <type>transmission_interface/SimpleTransmission</type>
    <joint name="right_arm_finger1_joint3">
      <hardwareInterface>EffortJointInterface</hardwareInterface>
    </joint>
    <actuator name="motor_right_arm_finger1_joint3">
      <hardwareInterface>EffortJointInterface</hardwareInterface>
      <mechanicalReduction>1</mechanicalReduction>
    </actuator>
  </transmission>
      <transmission name="transmission_right_arm_finger2_joint1">
    <type>transmission_interface/SimpleTransmission</type>
    <joint name="right_arm_finger2_joint1">
      <hardwareInterface>EffortJointInterface</hardwareInterface>
    </joint>
    <actuator name="motor_right_arm_finger2_joint1">
      <hardwareInterface>EffortJointInterface</hardwareInterface>
      <mechanicalReduction>1</mechanicalReduction>
    </actuator>
  </transmission>
  
  <transmission name="transmission_right_arm_finger2_joint2">
    <type>transmission_interface/SimpleTransmission</type>
    <joint name="right_arm_finger2_joint2">
      <hardwareInterface>EffortJointInterface</hardwareInterface>
    </joint>
    <actuator name="motor_right_arm_finger2_joint2">
      <hardwareInterface>EffortJointInterface</hardwareInterface>
      <mechanicalReduction>1</mechanicalReduction>
    </actuator>
  </transmission>   
  
  <transmission name="transmission_right_arm_finger2_joint3">
    <type>transmission_interface/SimpleTransmission</type>
    <joint name="right_arm_finger2_joint3">
      <hardwareInterface>EffortJointInterface</hardwareInterface>
    </joint>
    <actuator name="motor_right_arm_finger2_joint3">
      <hardwareInterface>EffortJointInterface</hardwareInterface>
      <mechanicalReduction>1</mechanicalReduction>
    </actuator>
  </transmission>
      <transmission name="transmission_right_arm_finger3_joint1">
    <type>transmission_interface/SimpleTransmission</type>
    <joint name="right_arm_finger3_joint1">
      <hardwareInterface>EffortJointInterface</hardwareInterface>
    </joint>
    <actuator name="motor_right_arm_finger3_joint1">
      <hardwareInterface>EffortJointInterface</hardwareInterface>
      <mechanicalReduction>1</mechanicalReduction>
    </actuator>
  </transmission>
  
  <transmission name="transmission_right_arm_finger3_joint2">
    <type>transmission_interface/SimpleTransmission</type>
    <joint name="right_arm_finger3_joint2">
      <hardwareInterface>EffortJointInterface</hardwareInterface>
    </joint>
    <actuator name="motor_right_arm_finger3_joint2">
      <hardwareInterface>EffortJointInterface</hardwareInterface>
      <mechanicalReduction>1</mechanicalReduction>
    </actuator>
  </transmission>   
  
  <transmission name="transmission_right_arm_finger3_joint3">
    <type>transmission_interface/SimpleTransmission</type>
    <joint name="right_arm_finger3_joint3">
      <hardwareInterface>EffortJointInterface</hardwareInterface>
    </joint>
    <actuator name="motor_right_arm_finger3_joint3">
      <hardwareInterface>EffortJointInterface</hardwareInterface>
      <mechanicalReduction>1</mechanicalReduction>
    </actuator>
  </transmission>
  
  
<!--  plugin ROS right arm  -->
<gazebo>
    <plugin name="gazebo_ros_control_right" filename="libgazebo_ros_control.so">
      <robotNamespace>/dual_arm_pa10/right_arm</robotNamespace>
<!--       <robotSimType>gazebo_ros_control/DefaultRobotHWSim</robotSimType> -->
    </plugin>
</gazebo>


  <gazebo reference = "right_arm_base_hand">
    <sensor name='contact_right_arm_base_hand' type='contact'>
	<plugin name="plugin_contact_right_arm_base_hand" filename="libcontact.so"/>
	<contact>
		<collision>right_arm_base_hand_collision</collision>
	</contact>
  </sensor>
</gazebo>

<gazebo reference="right_arm_finger1_link1">
  <kp>1000000.0</kp>
  <kd>100.0</kd>
  <mu1>100.0</mu1>
  <mu2>100.0</mu2>
  <minDepth>0.001</minDepth>
    <sensor name='contact_right_arm_finger1_link1' type='contact'>
	<plugin name="plugin_contact_right_arm_finger1_link1" filename="libcontact.so"/>
	<contact>
		<collision>right_arm_finger1_link1_collision</collision>
	</contact>
  </sensor>
</gazebo>

<gazebo reference="right_arm_finger1_link2">
  <kp>1000000.0</kp>
  <kd>100.0</kd>
  <mu1>100.0</mu1>
  <mu2>100.0</mu2>
  <minDepth>0.001</minDepth>
    <sensor name='contact_right_arm_finger1_link2' type='contact'>
	<plugin name="plugin_contact_right_arm_finger1_link2" filename="libcontact.so"/>
	<contact>
		<collision>right_arm_finger1_link2_collision</collision>
	</contact>
  </sensor>
</gazebo>

<gazebo reference="right_arm_finger1_link3">
  <kp>1000000.0</kp>
  <kd>100.0</kd>
  <mu1>100.0</mu1>
  <mu2>100.0</mu2>
  <minDepth>0.001</minDepth>
    <sensor name='contact_right_arm_finger1_link3' type='contact'>
	<plugin name="plugin_contact_right_arm_finger1_link3" filename="libcontact.so"/>
	<contact>
		<collision>right_arm_finger1_link3_collision</collision>
	</contact>
  </sensor>
</gazebo>

<gazebo reference="right_arm_finger2_link1">
  <kp>1000000.0</kp>
  <kd>100.0</kd>
  <mu1>100.0</mu1>
  <mu2>100.0</mu2>
  <minDepth>0.001</minDepth>
    <sensor name='contact_right_arm_finger2_link1' type='contact'>
	<plugin name="plugin_contact_right_arm_finger2_link1" filename="libcontact.so"/>
	<contact>
		<collision>right_arm_finger2_link1_collision</collision>
	</contact>
  </sensor>
</gazebo>

<gazebo reference="right_arm_finger2_link2">
  <kp>1000000.0</kp>
  <kd>100.0</kd>
  <mu1>100.0</mu1>
  <mu2>100.0</mu2>
  <minDepth>0.001</minDepth>
    <sensor name='contact_right_arm_finger2_link2' type='contact'>
	<plugin name="plugin_contact_right_arm_finger2_link2" filename="libcontact.so"/>
	<contact>
		<collision>right_arm_finger2_link2_collision</collision>
	</contact>
  </sensor>
</gazebo>

<gazebo reference="right_arm_finger2_link3">
  <kp>1000000.0</kp>
  <kd>100.0</kd>
  <mu1>100.0</mu1>
  <mu2>100.0</mu2>
  <minDepth>0.001</minDepth>
    <sensor name='contact_right_arm_finger2_link3' type='contact'>
	<plugin name="plugin_contact_right_arm_finger2_link3" filename="libcontact.so"/>
	<contact>
		<collision>right_arm_finger2_link3_collision</collision>
	</contact>
  </sensor>
</gazebo>

<gazebo reference="right_arm_finger3_link1">
  <kp>1000000.0</kp>
  <kd>100.0</kd>
  <mu1>100.0</mu1>
  <mu2>100.0</mu2>
  <minDepth>0.001</minDepth>
    <sensor name='contact_right_arm_finger3_link1' type='contact'>
	<plugin name="plugin_contact_right_arm_finger3_link1" filename="libcontact.so"/>
	<contact>
		<collision>right_arm_finger3_link1_collision</collision>
	</contact>
  </sensor>
</gazebo>

<gazebo reference="right_arm_finger3_link2">
  <kp>1000000.0</kp>
  <kd>100.0</kd>
  <mu1>100.0</mu1>
  <mu2>100.0</mu2>
  <minDepth>0.001</minDepth>
    <sensor name='contact_right_arm_finger3_link2' type='contact'>
	<plugin name="plugin_contact_right_arm_finger3_link2" filename="libcontact.so"/>
	<contact>
		<collision>right_arm_finger3_link2_collision</collision>
	</contact>
  </sensor>
</gazebo>

<gazebo reference="right_arm_finger3_link3">
  <kp>1000000.0</kp>
  <kd>100.0</kd>
  <mu1>100.0</mu1>
  <mu2>100.0</mu2>
  <minDepth>0.001</minDepth>
    <sensor name='contact_right_arm_finger3_link3' type='contact'>
	<plugin name="plugin_contact_right_arm_finger3_link3" filename="libcontact.so"/>
	<contact>
		<collision>right_arm_finger3_link3_collision</collision>
	</contact>
  </sensor>
</gazebo>






<!-- Fake joint to fix the robot to the ground -->

<link name = "world"/>
      <!--To fixe the bqse of the robot-->
  <joint name="fixed" type="fixed">
    <parent link="world"/>
    <child link="base_link"/>
  </joint>
  
<!--  Plugin to fix grasping issues  -->
  
  <gazebo>
   <plugin name="gazebo_grasp_fix" filename="libgazebo_grasp_fix.so">
        <arm>
           <arm_name>left_arm</arm_name>
           <palm_link> left_arm_link8 </palm_link>
           <gripper_link> gripper_left_finger_right </gripper_link>
           <gripper_link> gripper_left_finger_left </gripper_link>
        </arm>
	 <arm>
           <arm_name>right_arm</arm_name>
           <palm_link> right_arm_link8 </palm_link>
           <gripper_link> right_arm_finger1_link1 </gripper_link>
           <gripper_link> right_arm_finger1_link2 </gripper_link>
	   <gripper_link> right_arm_finger1_link3 </gripper_link>
	   <gripper_link> right_arm_finger2_link1 </gripper_link>
           <gripper_link> right_arm_finger2_link2 </gripper_link>
	   <gripper_link> right_arm_finger2_link3 </gripper_link>
	   <gripper_link> right_arm_finger3_link1 </gripper_link>
           <gripper_link> right_arm_finger3_link2 </gripper_link>
	   <gripper_link> right_arm_finger3_link3 </gripper_link>
        </arm>
       <forces_angle_tolerance>100</forces_angle_tolerance>
       <update_rate>4</update_rate>
       <grip_count_threshold>4</grip_count_threshold>
       <max_grip_count>8</max_grip_count>
       <release_tolerance>0.005</release_tolerance>
       <disable_collisions_on_attach>false</disable_collisions_on_attach>
       <contact_topic>__default_topic__</contact_topic>
    </plugin>
</gazebo>






<!-- Enable self collision for every links -->
 <gazebo reference = "left_arm_link1">
	 <self_collide>true</self_collide>
 </gazebo>
 
  <gazebo reference = "gripper_left_finger_left">
	 <self_collide>true</self_collide>
 </gazebo>
  <gazebo reference = "gripper_left_finger_right">
	 <self_collide>true</self_collide>
 </gazebo>
 

 <gazebo reference = "left_arm_link2">
	 <self_collide>true</self_collide>
 </gazebo>
 
 <gazebo reference = "left_arm_link3">
	 <self_collide>true</self_collide>
 </gazebo>
 
 <gazebo reference = "left_arm_link4">
	 <self_collide>true</self_collide>
 </gazebo>
 
 <gazebo reference = "left_arm_link5">
	 <self_collide>true</self_collide>
 </gazebo>
 
 <gazebo reference = "left_arm_link6">
	 <self_collide>true</self_collide>
 </gazebo>
 
 <gazebo reference = "left_arm_link7">
	 <self_collide>true</self_collide>
 </gazebo>
 
 <gazebo reference = "gripper2">
	 <self_collide>true</self_collide>
 </gazebo>
 
 <gazebo reference = "base_link">
	 <self_collide>true</self_collide>
 </gazebo>
  
<!--  <gazebo reference = "right_arm_link1">
	 <self_collide>true</self_collide>
 </gazebo>-->
 
 <gazebo reference = "right_arm_link2">
	 <self_collide>true</self_collide>
 </gazebo>
 
 <gazebo reference = "right_arm_link3">
	 <self_collide>true</self_collide>
 </gazebo>
 
 <gazebo reference = "right_arm_link4">
	 <self_collide>true</self_collide>
 </gazebo>
 
 <gazebo reference = "right_arm_link5">
	 <self_collide>true</self_collide>
 </gazebo>
 
 <gazebo reference = "right_arm_link6">
	 <self_collide>true</self_collide>
 </gazebo>
 
 <gazebo reference = "right_arm_link7">
	 <self_collide>true</self_collide>
 </gazebo>
 
 <gazebo reference = "right_arm_finger1_link1">
	 <self_collide>true</self_collide>
 </gazebo>
 
 <gazebo reference = "right_arm_finger1_link2">
	 <self_collide>true</self_collide>
 </gazebo>
 
 <gazebo reference = "right_arm_finger1_link3">
	 <self_collide>true</self_collide>
 </gazebo>
 
 <gazebo reference = "right_arm_finger2_link1">
	 <self_collide>true</self_collide>
 </gazebo>
 
 <gazebo reference = "right_arm_finger2_link2">
	 <self_collide>true</self_collide>
 </gazebo>
 
 <gazebo reference = "right_arm_finger2_link3">
	 <self_collide>true</self_collide>
 </gazebo>
 
 <gazebo reference = "right_arm_finger3_link1">
	 <self_collide>true</self_collide>
 </gazebo>
 
 <gazebo reference = "right_arm_finger3_link2">
	 <self_collide>true</self_collide>
 </gazebo>
 
 <gazebo reference = "right_arm_finger3_link3">
	 <self_collide>true</self_collide>
 </gazebo>
 
 
 
 
 
</robot>
